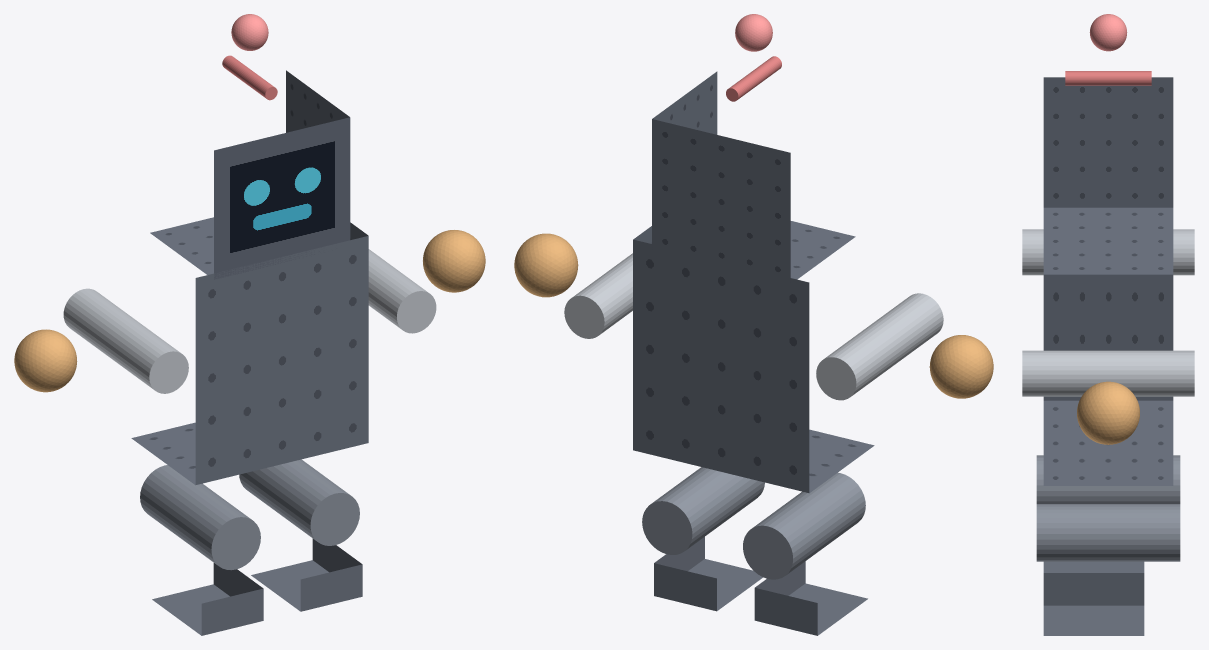
File: robot.glb
The picture shows the model from 3 angles, left to right: view 1: azimuth 30°, elevation 25°; view 2: azimuth 150°, elevation 25°; view 3: azimuth 270°, elevation 25°; orthographic projection.
Parts seen in each view (by area): view 1: part_0, part_1, part_8, part_4, part_10, part_11, part_9, part_6, part_5, part_7, part_3, part_2; view 2: part_0, part_1, part_8, part_4, part_10, part_9, part_11, part_6, part_7, part_5, part_3, part_2; view 3: part_1, part_0, part_10, part_6, part_11, part_7, part_8, part_4, part_2, part_9, part_3.
Part boxes in pixels (<box>): part_0: <box>131,222,368,485</box>; part_1: <box>150,70,350,279</box>; part_8: <box>140,465,260,570</box>; part_4: <box>63,288,188,393</box>; part_10: <box>239,459,359,545</box>; part_11: <box>251,538,362,611</box>; part_9: <box>152,563,263,635</box>; part_6: <box>368,249,436,333</box>; part_5: <box>14,329,77,392</box>; part_7: <box>423,230,485,292</box>; part_3: <box>231,14,268,50</box>; part_2: <box>222,55,277,100</box>; part_0: <box>633,226,874,493</box>; part_1: <box>652,71,855,283</box>; part_8: <box>743,472,865,579</box>; part_4: <box>816,293,943,400</box>; part_10: <box>642,467,764,554</box>; part_9: <box>754,561,867,635</box>; part_11: <box>654,537,762,611</box>; part_6: <box>564,253,632,338</box>; part_7: <box>514,233,578,297</box>; part_5: <box>929,335,993,398</box>; part_3: <box>735,14,772,51</box>; part_2: <box>726,56,781,101</box>; part_1: <box>1043,77,1173,274</box>; part_0: <box>1043,274,1173,485</box>; part_10: <box>1036,504,1180,561</box>; part_6: <box>1022,350,1194,396</box>; part_11: <box>1043,573,1144,635</box>; part_7: <box>1077,381,1139,444</box>; part_8: <box>1036,455,1180,503</box>; part_4: <box>1022,229,1194,275</box>; part_2: <box>1065,71,1151,85</box>; part_9: <box>1043,561,1144,572</box>; part_3: <box>1089,14,1127,51</box>.
Size of the model in its own units: 3.74 by 4.45 by 1.2.
7 materials, 1 textured.
